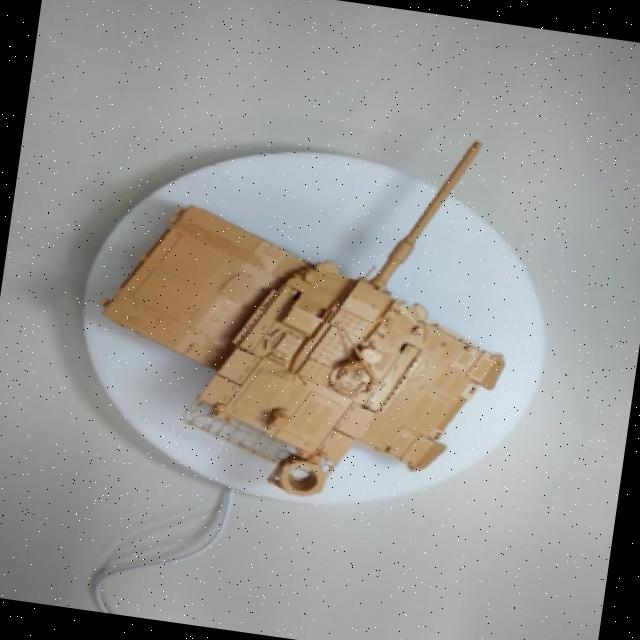korea tank: (86, 45, 572, 523)
